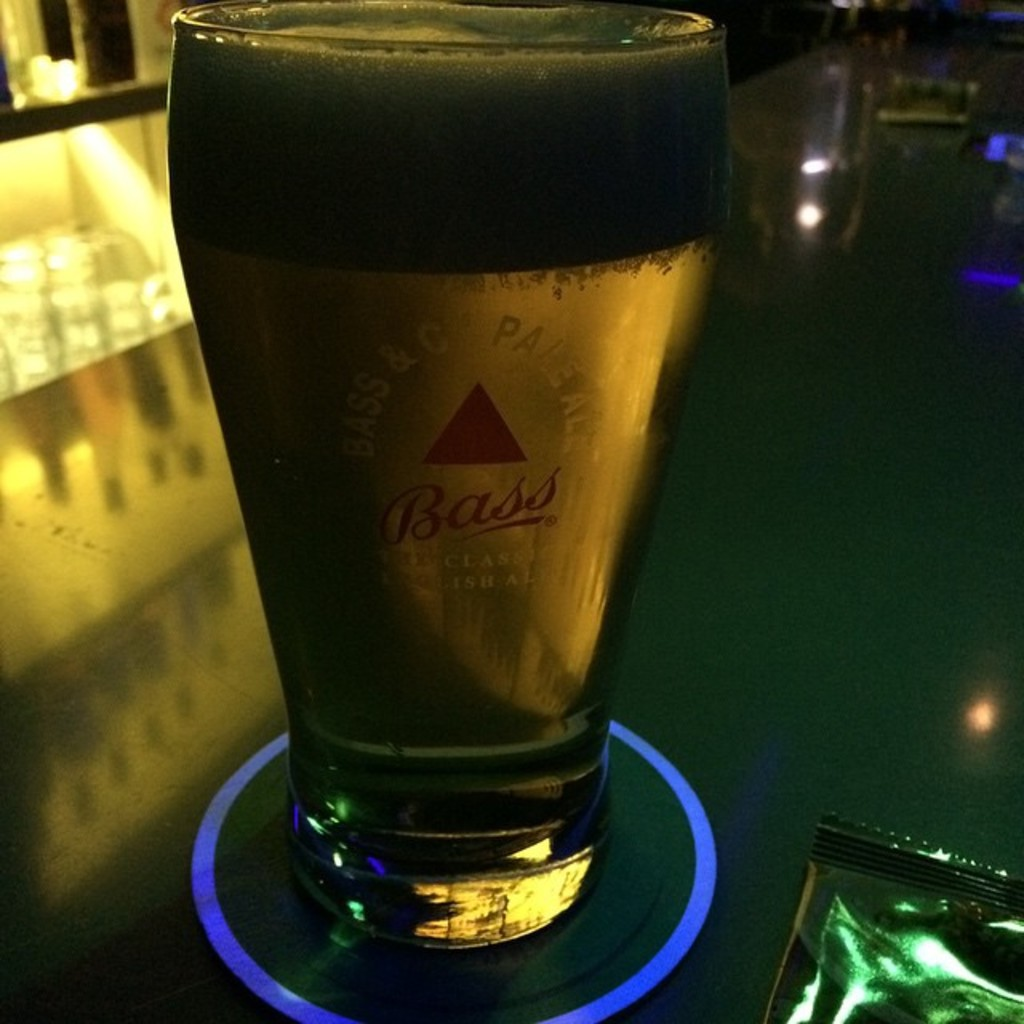Beer: (153, 6, 731, 948)
